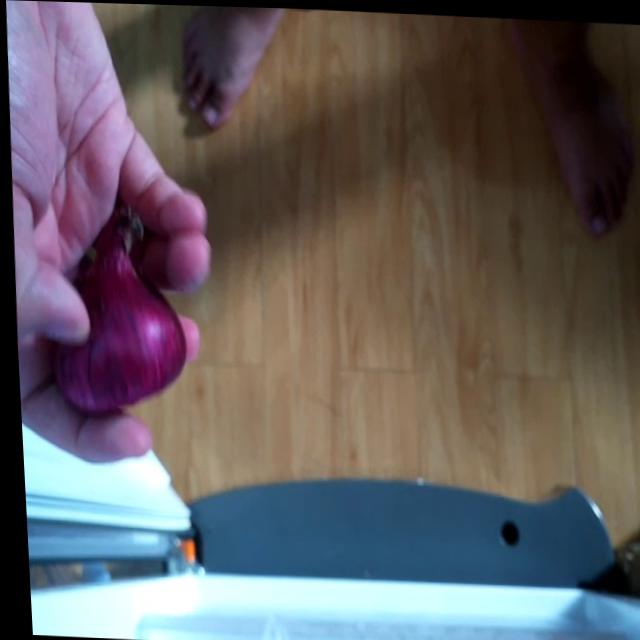onion: (33, 206, 185, 410)
